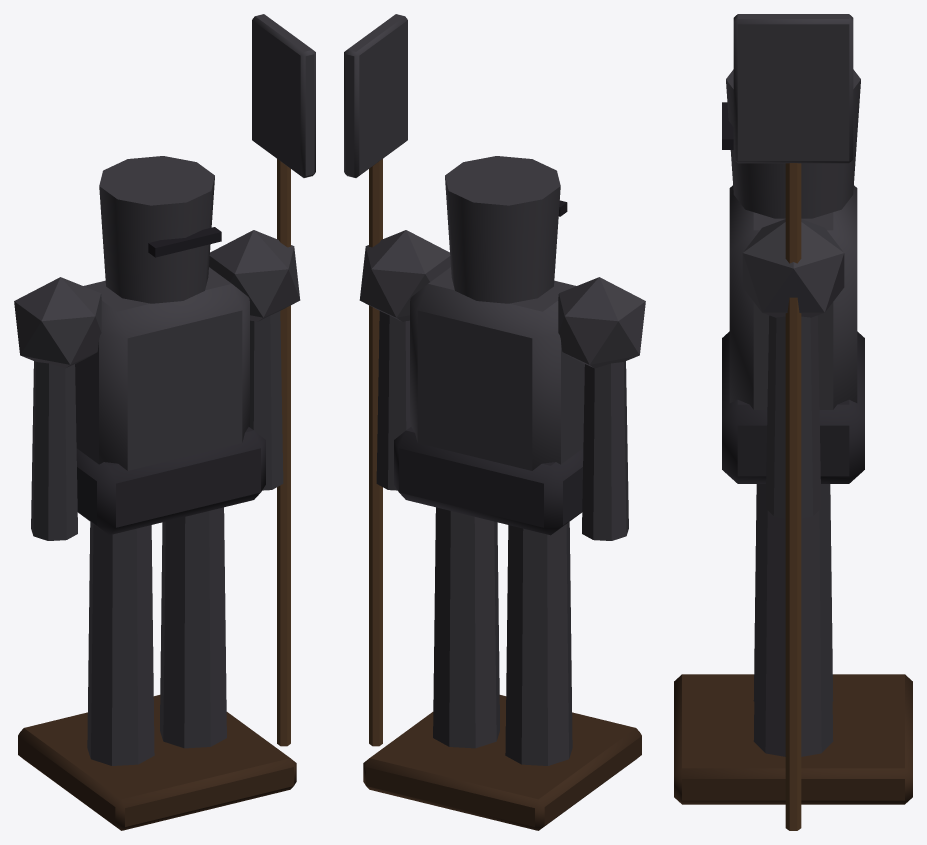
File: armour_stand.glb
3 renders of one model, left to right at view 1: azimuth 30°, elevation 25°; view 2: azimuth 150°, elevation 25°; view 3: azimuth 270°, elevation 25°, orthographic. The views are drawn at different scales.
Parts seen in each view (by area): view 1: armour_stand; view 2: armour_stand; view 3: armour_stand.
Boxes of the visible parts, <box> form: armour_stand: <box>14,14,315,830</box>; armour_stand: <box>344,14,645,830</box>; armour_stand: <box>674,14,912,830</box>.
Bounding box in the file's own units: 0.9083 × 2.25 × 0.6.
